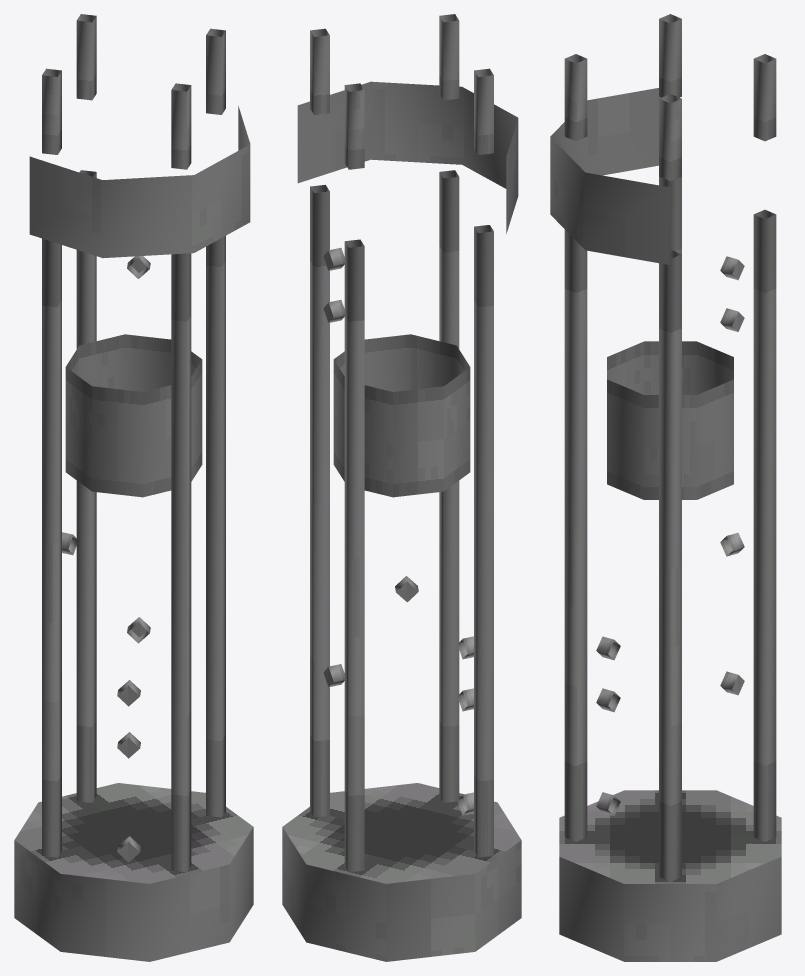
File: ship_component_weapon_s01_l2.fbx
3 renders of one model, left to right at view 1: azimuth 30°, elevation 25°; view 2: azimuth 150°, elevation 25°; view 3: azimuth 270°, elevation 25°, orthographic.
Parts seen in each view (by area): view 1: mesh_node; view 2: mesh_node; view 3: mesh_node.
Boxes of the visible parts, x1,y1,x2,y2 form: mesh_node: [14, 14, 253, 961]; mesh_node: [282, 14, 521, 961]; mesh_node: [550, 14, 781, 961].
Size of the model in its own units: 0.42 by 1.65 by 0.42.
1 material, 1 textured.
